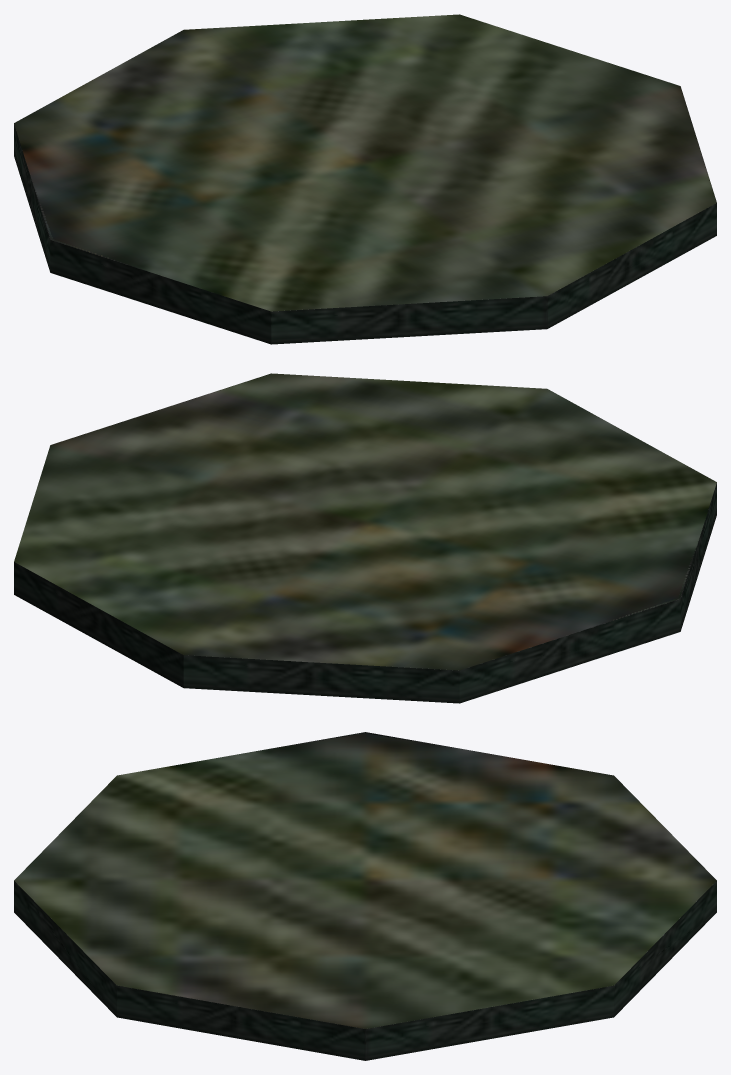
Rendered from sewer_cap.fbx.
3 renders of one model, top to bottom at view 1: azimuth 30°, elevation 25°; view 2: azimuth 150°, elevation 25°; view 3: azimuth 270°, elevation 25°, orthographic. The views are drawn at different scales.
Parts seen in each view (by area): view 1: Cylinder; view 2: Cylinder; view 3: Cylinder.
Part boxes in pixels (x1=…): Cylinder: x1=14, y1=14, x2=716, y2=344; Cylinder: x1=14, y1=373, x2=716, y2=703; Cylinder: x1=14, y1=732, x2=716, y2=1060.
Bounding box in the file's own units: 200 × 10 × 200.
Materials: 1 (1 with a texture image).
